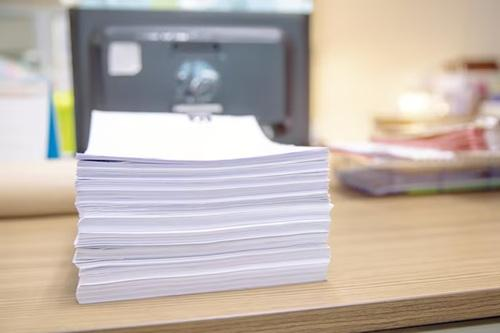plastic: (71, 111, 334, 312)
